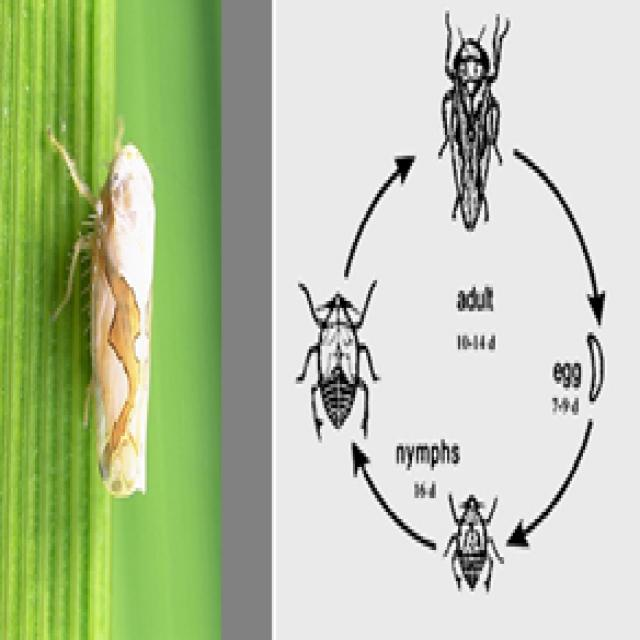Yechan: (54, 108, 162, 512)
